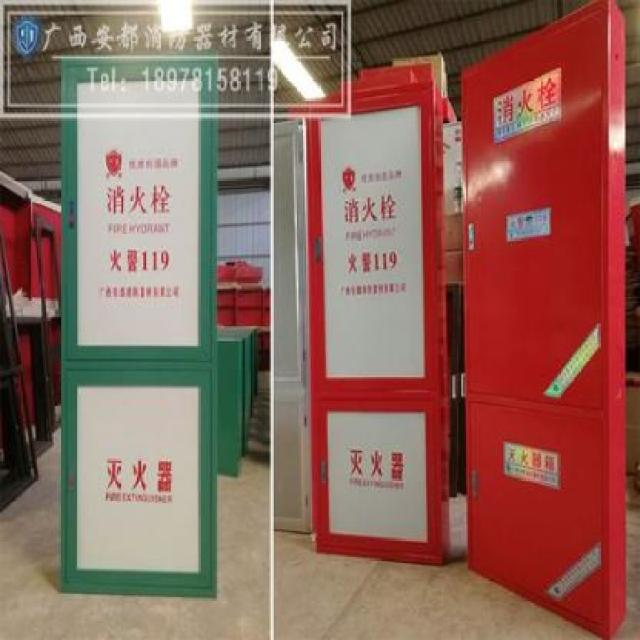firehydrant: (455, 0, 640, 640), (55, 49, 221, 606), (304, 59, 454, 572)
